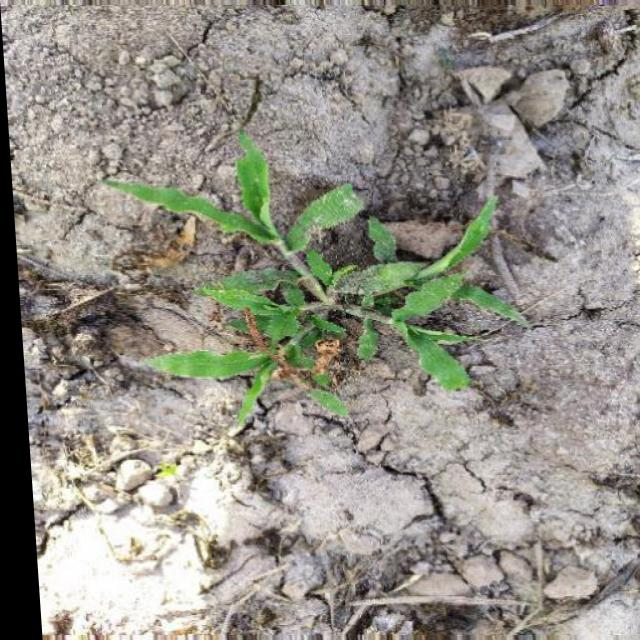weed: (95, 148, 543, 460)
